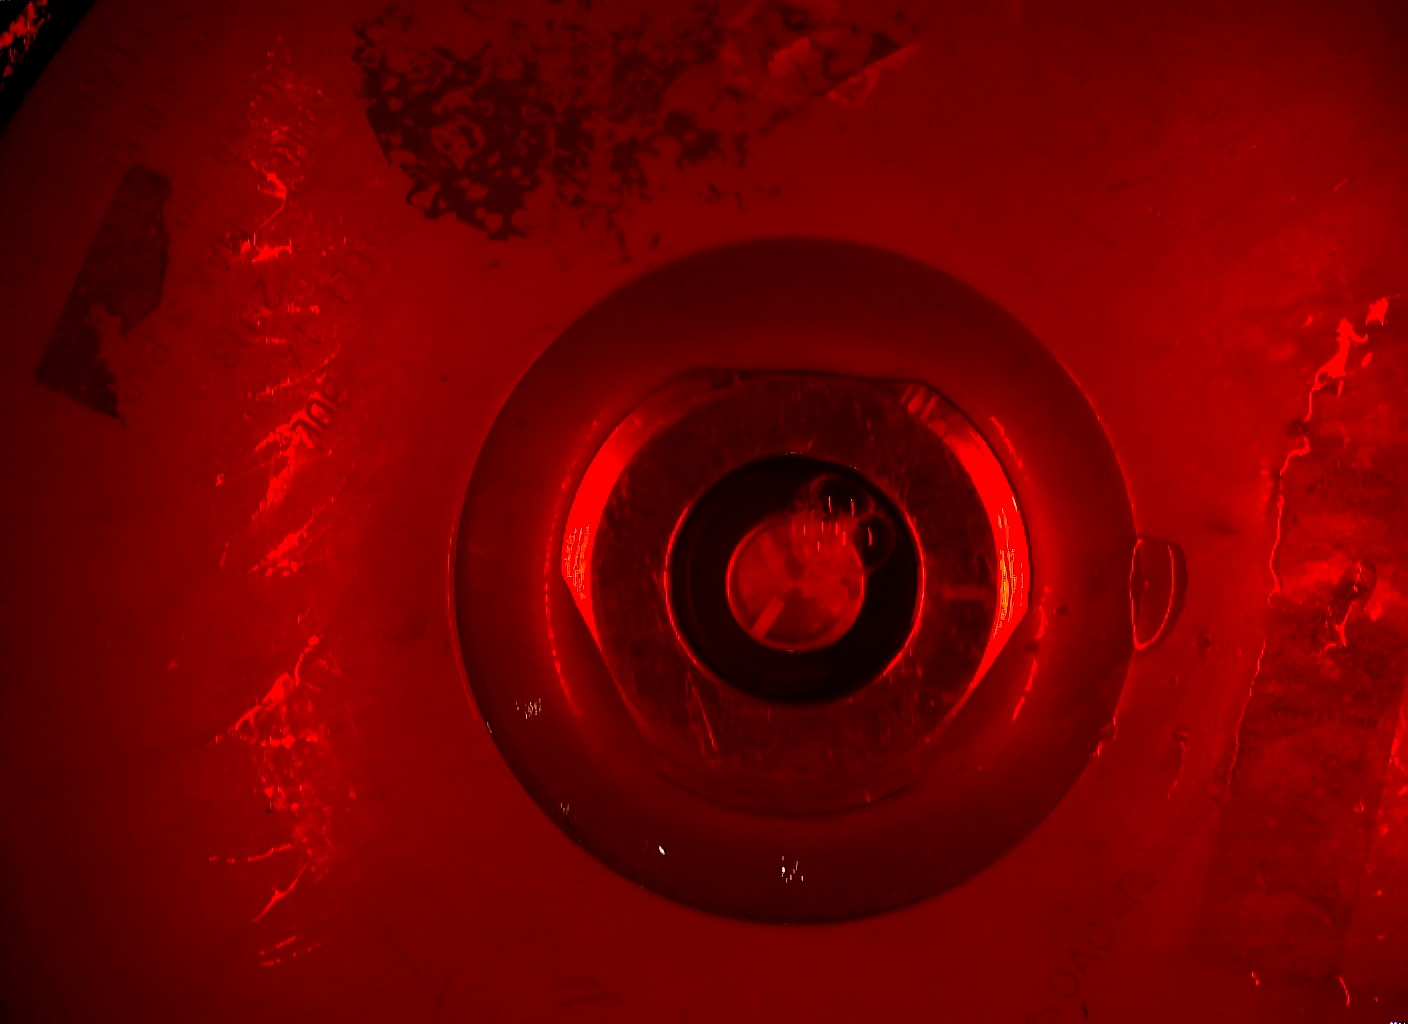pena: (787, 462, 884, 589)
